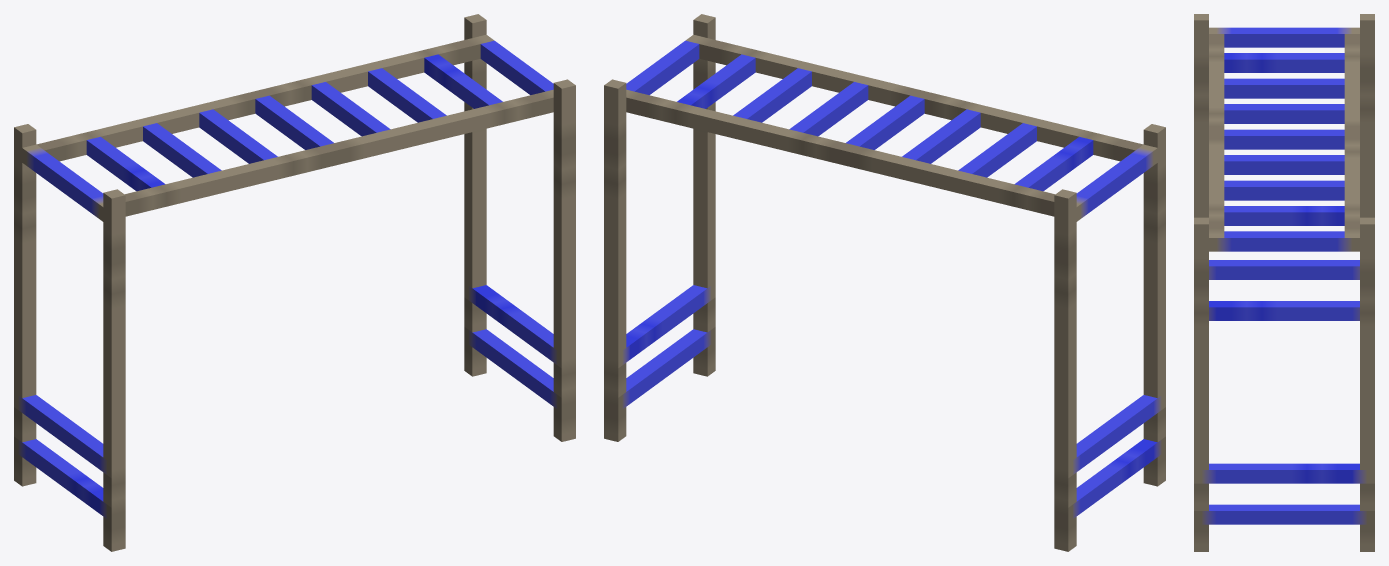
File: monkeybars.obj
3 renders of one model, left to right at view 1: azimuth 30°, elevation 25°; view 2: azimuth 150°, elevation 25°; view 3: azimuth 270°, elevation 25°, orthographic. The views are drawn at different scales.
Visible parts, largest first — view 1: Box_42; view 2: Box_42; view 3: Box_42.
Boxes of the visible parts, x1,y1,x2,y2 form: Box_42: (14, 14, 575, 551); Box_42: (604, 14, 1165, 551); Box_42: (1194, 14, 1374, 551).
Size of the model in its own units: 33 by 24 by 12.
1 material, 1 textured.
